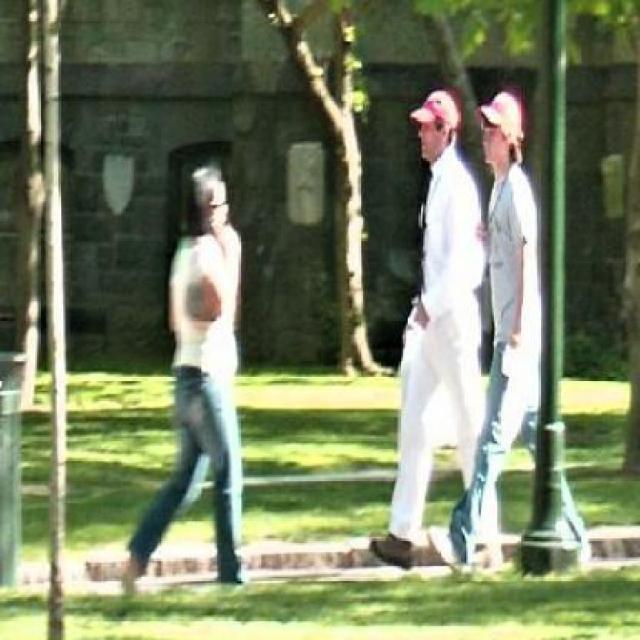Person: (122, 154, 255, 592), (371, 76, 483, 576), (457, 80, 548, 572)
